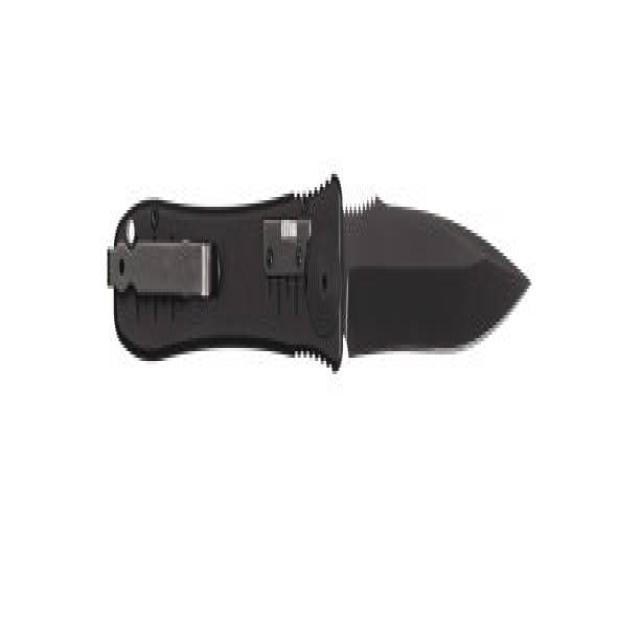knife: (102, 153, 536, 384)
